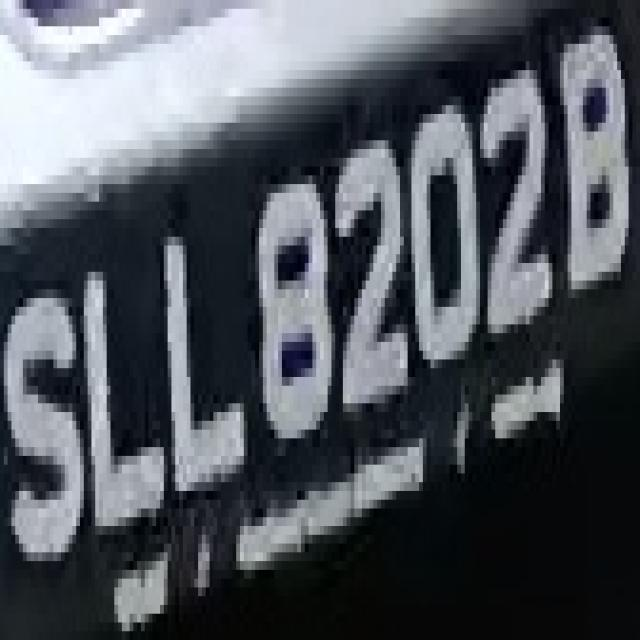0: (408, 79, 476, 368)
2: (324, 132, 419, 430), (469, 70, 560, 351)
8: (244, 158, 335, 438)
B: (564, 44, 632, 324)
L: (164, 202, 248, 534), (76, 245, 168, 518)
S: (0, 271, 91, 578)
